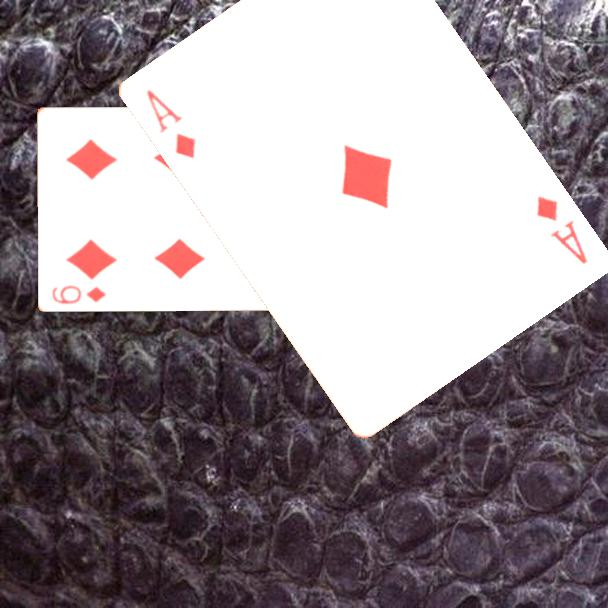d01: (533, 192, 592, 268), (143, 86, 200, 162)
d06: (49, 282, 109, 307)
